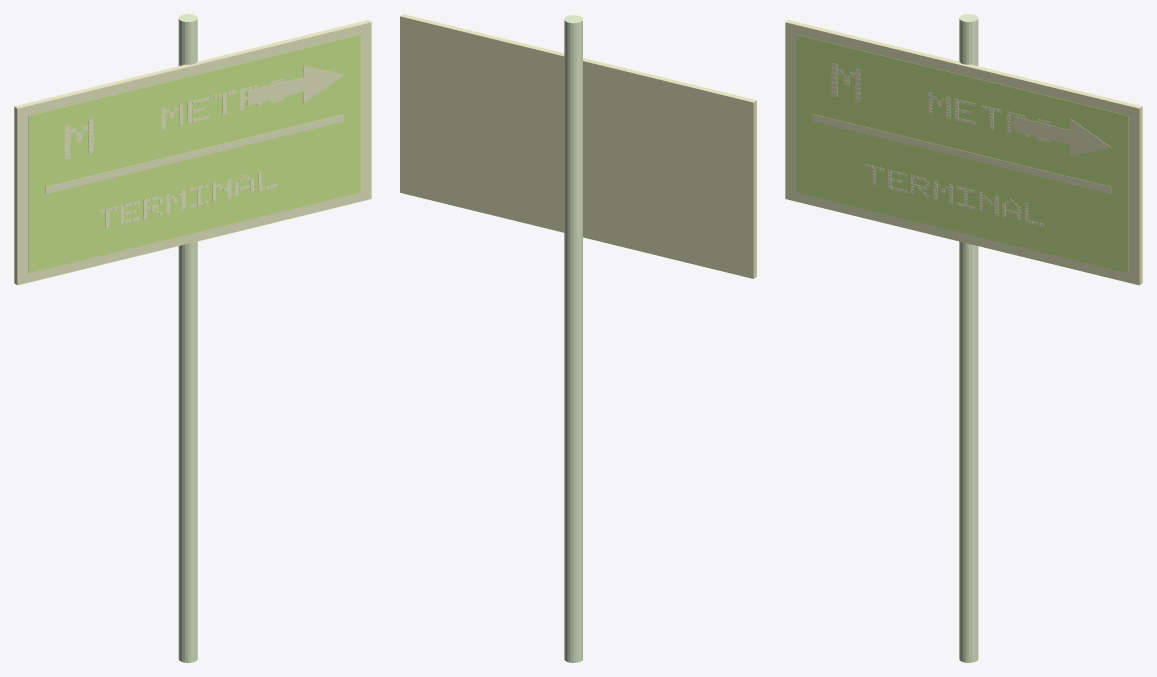
File: sign_destination_stack_terminal_metro_right.glb
3 views of the same model, side by side, from view 1: azimuth 30°, elevation 25°; view 2: azimuth 150°, elevation 25°; view 3: azimuth 330°, elevation 25° (orthographic).
Parts seen in each view (by area): view 1: layer_1_00, plate_base_00, pole, layer_2_00, layer_2_225, layer_2_224; view 2: plate_base_00, pole; view 3: layer_1_00, plate_base_00, pole, layer_2_00, layer_2_225, layer_2_224.
Boxes of the visible parts, <box> form: layer_1_00: <box>28,34,360,273</box>; plate_base_00: <box>14,20,371,285</box>; pole: <box>178,14,197,662</box>; layer_2_00: <box>45,114,344,193</box>; layer_2_225: <box>303,65,343,103</box>; layer_2_224: <box>247,77,303,105</box>; plate_base_00: <box>400,14,756,278</box>; pole: <box>564,15,582,662</box>; layer_1_00: <box>796,34,1128,273</box>; plate_base_00: <box>785,20,1142,285</box>; pole: <box>959,14,978,662</box>; layer_2_00: <box>812,114,1111,193</box>; layer_2_225: <box>1070,118,1110,156</box>; layer_2_224: <box>1014,116,1069,144</box>.
Bounding box in the file's own units: 1.27 × 2.2 × 0.0725.
